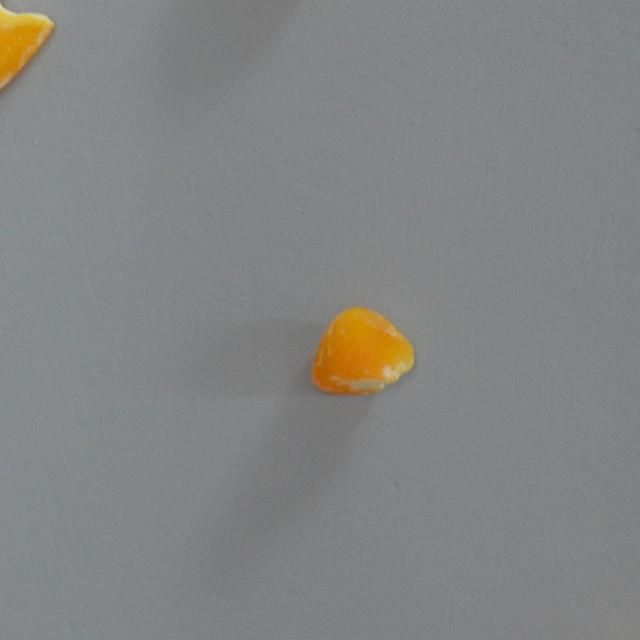pelicula: (308, 304, 415, 398), (0, 0, 54, 102)
